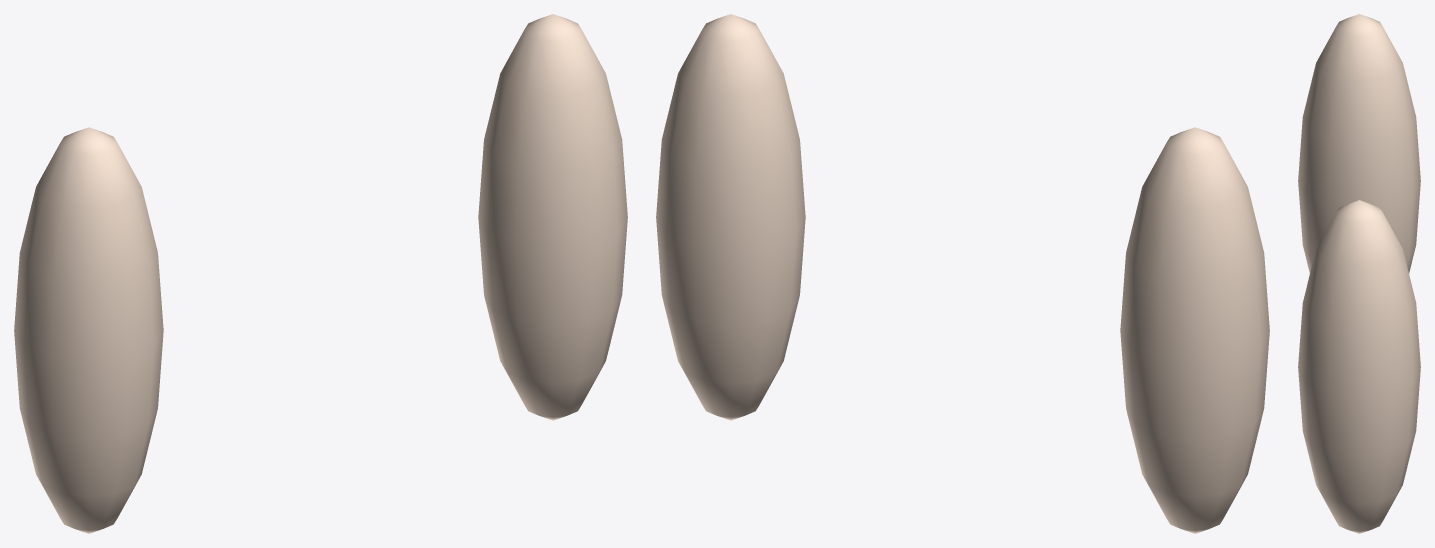
The model's file is arms-chibi-01.glb.
3 renders of one model, left to right at view 1: azimuth 30°, elevation 25°; view 2: azimuth 150°, elevation 25°; view 3: azimuth 270°, elevation 25°, orthographic. The views are drawn at different scales.
Parts seen in each view (by area): view 1: part_0, part_1; view 2: part_0, part_1; view 3: part_1, part_0.
Boxes of the visible parts, x1,y1,x2,y2 form: part_0: (14, 127, 163, 533); part_1: (478, 14, 627, 420); part_0: (1120, 127, 1269, 533); part_1: (656, 14, 805, 420); part_1: (1298, 200, 1420, 533); part_0: (1298, 14, 1420, 273).
Bounding box in the file's own units: 1.1 × 0.72 × 0.24.
